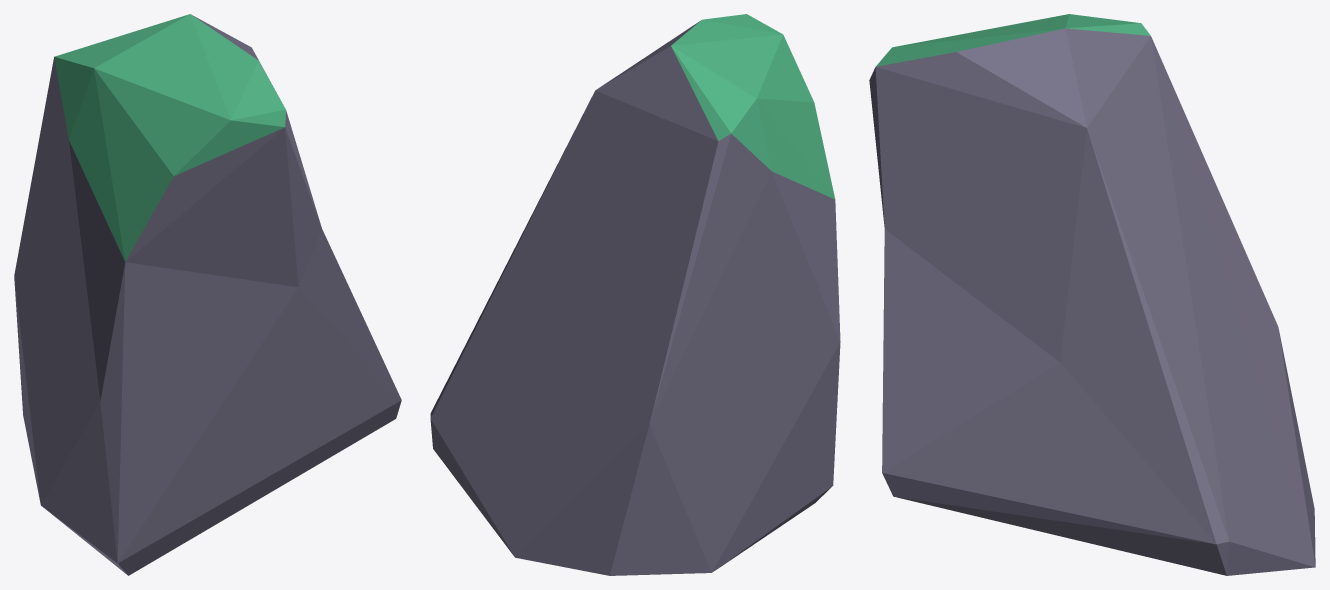
Rendered from Rock_Test.fbx.
3 views of the same model, side by side, from view 1: azimuth 30°, elevation 25°; view 2: azimuth 150°, elevation 25°; view 3: azimuth 270°, elevation 25° (orthographic). The views are drawn at different scales.
Visible parts, largest first — view 1: Cube.050; view 2: Cube.050; view 3: Cube.050.
Boxes of the visible parts, <box> form: Cube.050: <box>14,14,401,575</box>; Cube.050: <box>430,14,840,575</box>; Cube.050: <box>869,14,1315,575</box>.
Bounding box in the file's own units: 7977 × 11883 × 8874.
